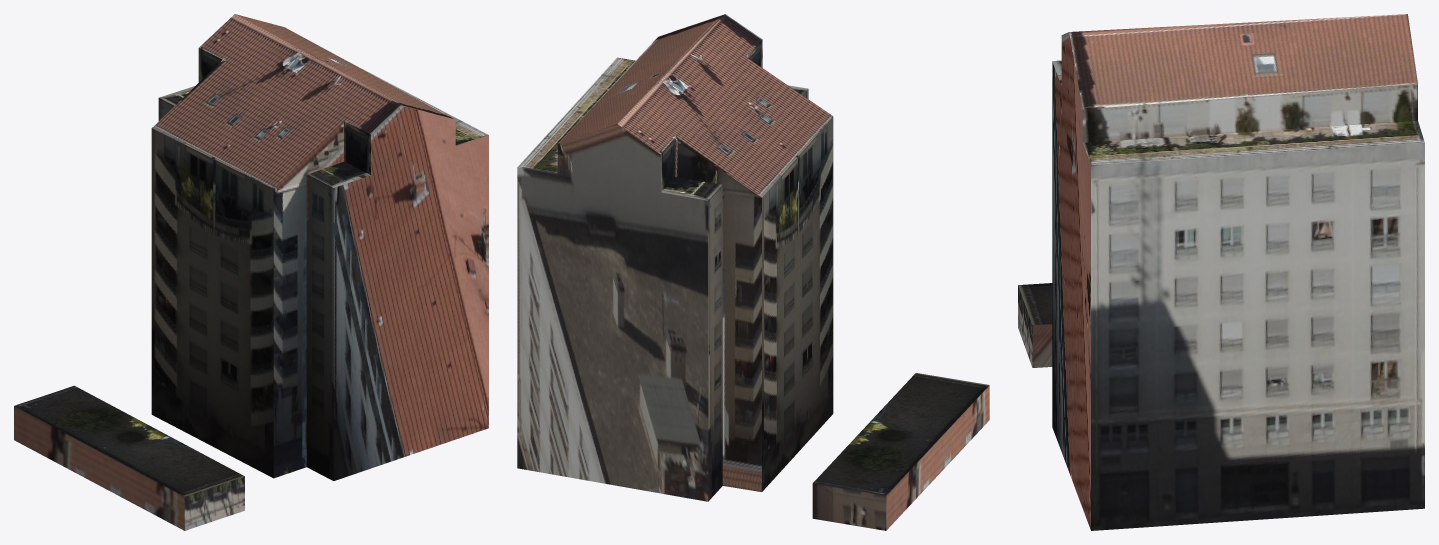
3 renders of one model, left to right at view 1: azimuth 30°, elevation 25°; view 2: azimuth 150°, elevation 25°; view 3: azimuth 270°, elevation 25°, orthographic. The views are drawn at different scales.
Parts seen in each view (by area): view 1: Z_UP; view 2: Z_UP; view 3: Z_UP.
Boxes of the visible parts, <box> form: Z_UP: <box>14,14,488,530</box>; Z_UP: <box>517,14,989,530</box>; Z_UP: <box>1018,14,1424,530</box>.
Bounding box in the file's own units: 27.73 × 25.36 × 21.25.
2 materials, 1 textured.
